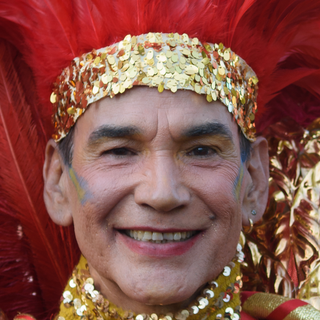eye: (95, 141, 143, 164), (179, 140, 226, 163)
